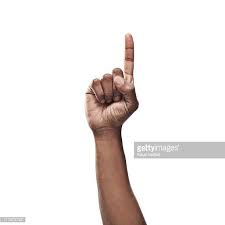hand: (71, 28, 154, 139)
